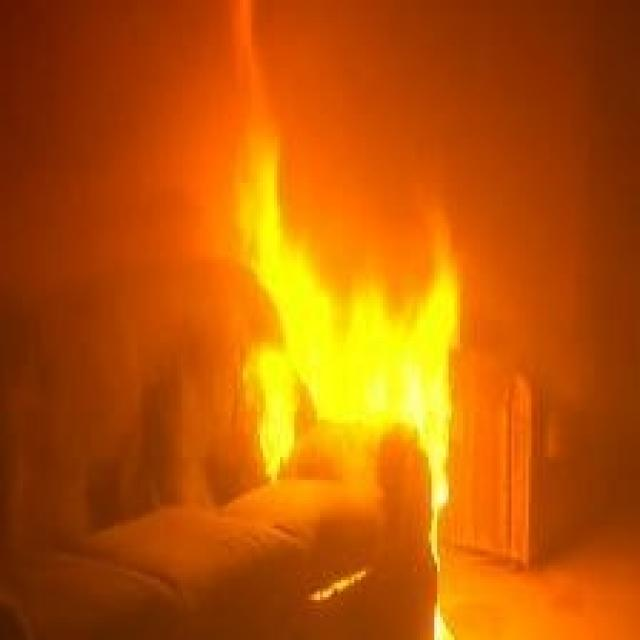fire: (247, 197, 476, 454)
